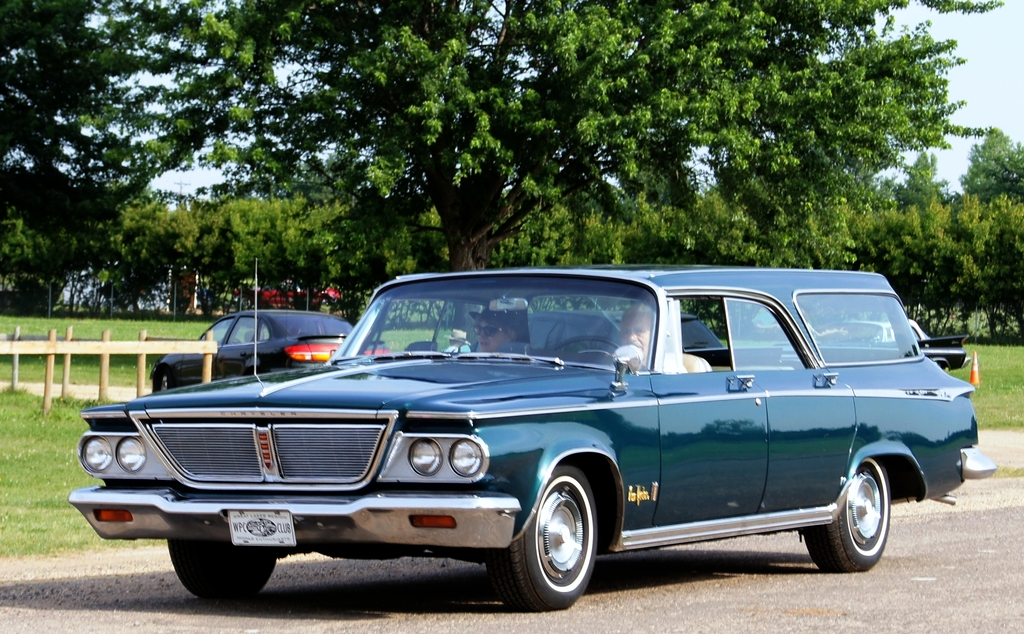Car: (89, 271, 965, 605), (147, 289, 387, 392), (527, 307, 723, 360), (844, 315, 965, 372)
